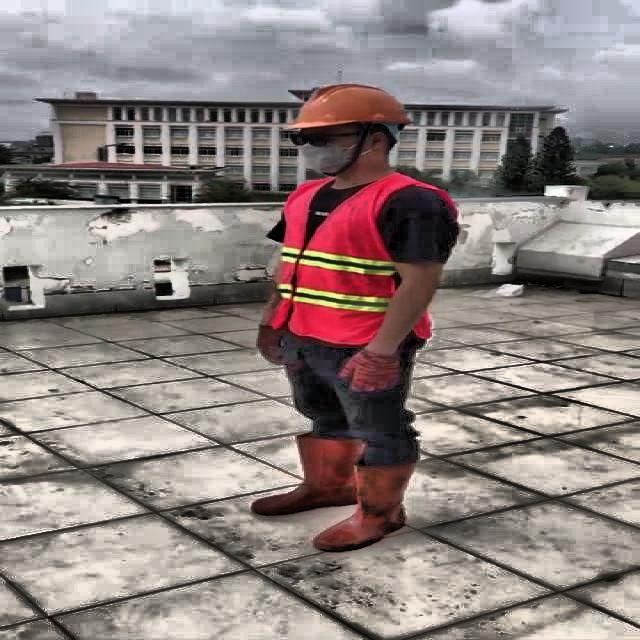safety_jacket: (270, 176, 436, 344)
